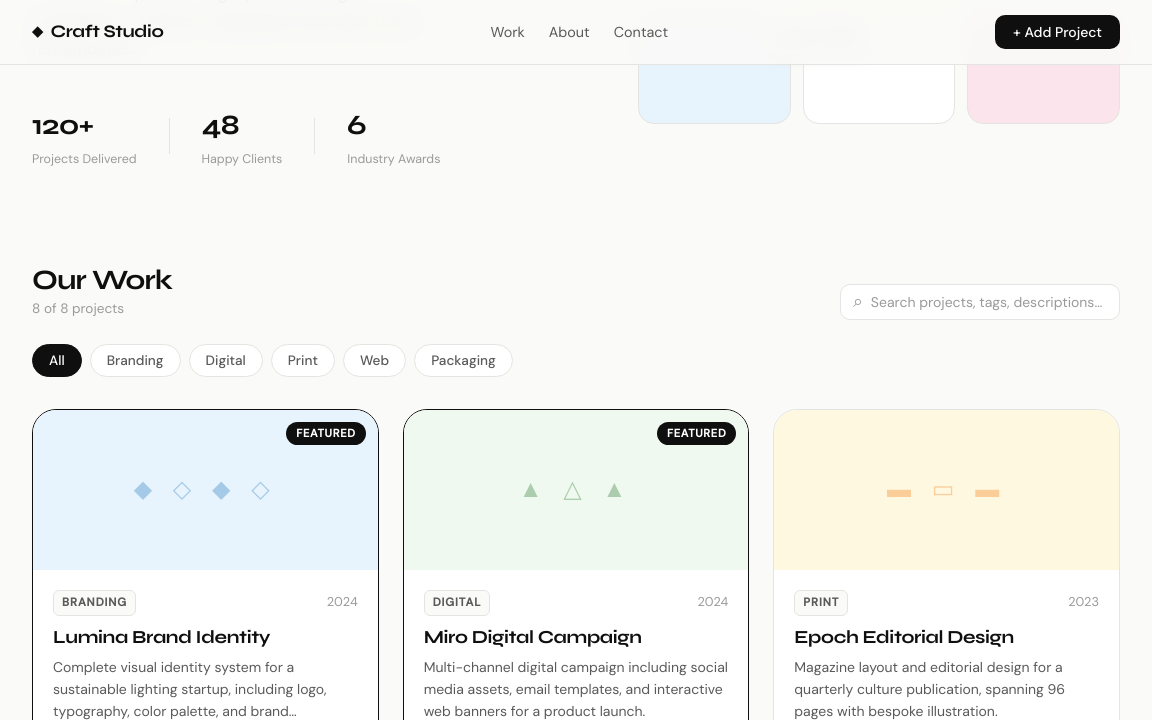
Scenario: App integration › filters projects by category filter buttons
(page scrolled)
Click the button "Web" at (375, 360), box x1=343 y1=344 x2=406 y2=376
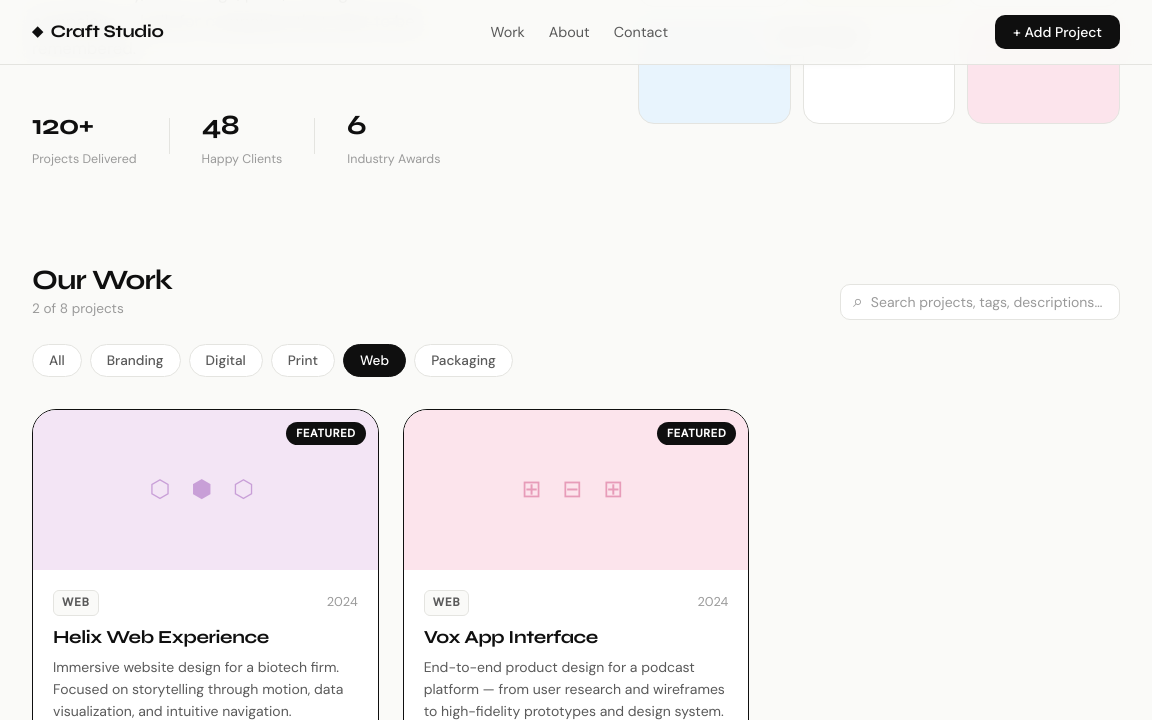
Expected: the heading "Helix Web Experience" is shown, x1=53 y1=626 x2=269 y2=648
Expected: the button "Lumina Brand Identity" is gone
